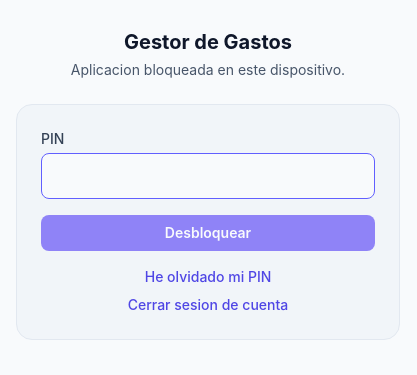
Scenario: LockGate — con PIN activo y bloqueada › PIN incorrecto muestra un error accesible (role=alert) y no desbloquea
Type "000000" into the password field labelled "PIN".
click(208, 176); type("000000")  # box top-left (41, 153), bottom-right (375, 199)
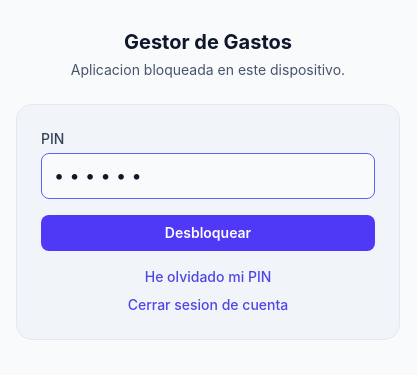
Click the button "Desbloquear".
click(208, 233)  # box top-left (41, 215), bottom-right (375, 251)
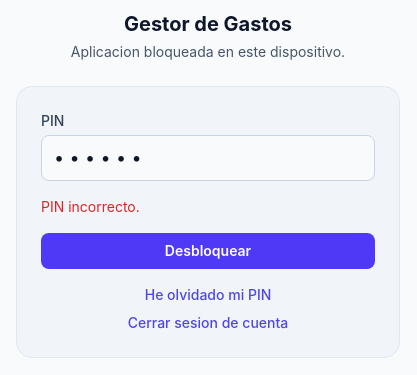
Now the message shows "incorrecto", box top-left (41, 198), bottom-right (140, 215)
